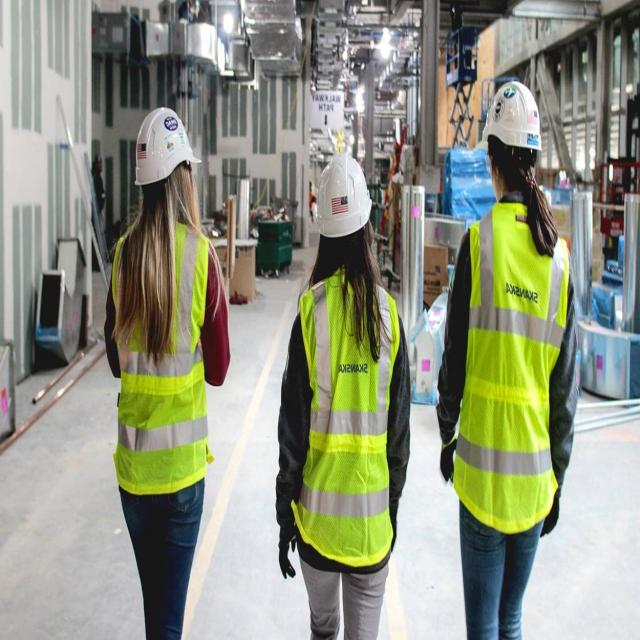Reflective-Jacket: (448, 205, 574, 525), (288, 271, 405, 564), (108, 222, 216, 498)
Safety-Helmet: (130, 100, 200, 190), (311, 144, 375, 238), (480, 74, 545, 155)
